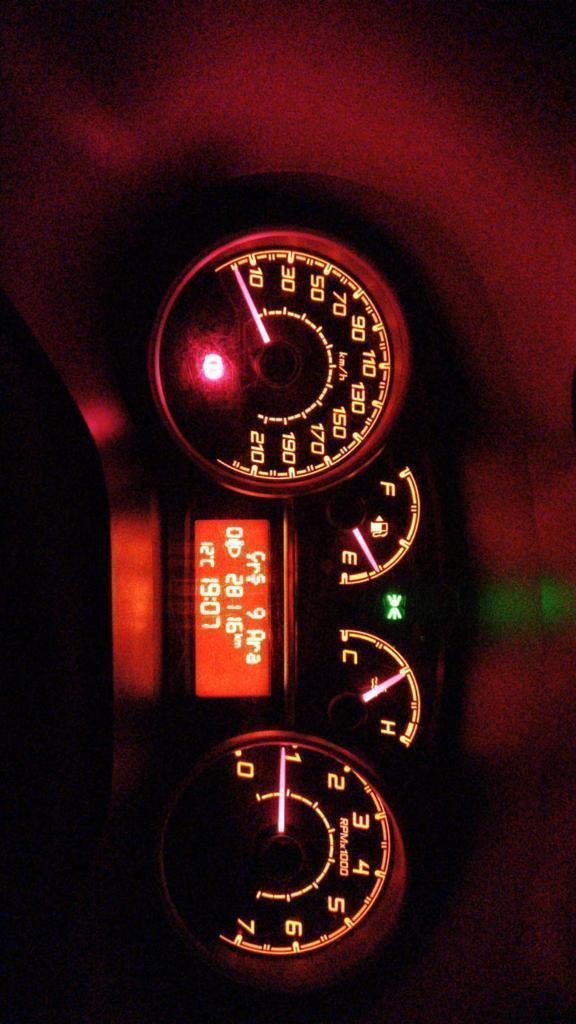0: (198, 601, 221, 615), (225, 526, 243, 538)
1: (224, 602, 243, 611), (199, 575, 220, 583), (225, 615, 243, 621), (198, 540, 214, 546)
2: (224, 573, 243, 585), (198, 545, 215, 555)
6: (224, 621, 243, 633)
7: (200, 615, 221, 630)
8: (224, 585, 244, 597)
9: (198, 583, 221, 596), (245, 606, 266, 620)
X: (244, 573, 266, 586), (244, 550, 266, 563), (245, 628, 265, 641), (244, 652, 261, 665), (245, 641, 261, 652), (245, 562, 261, 573), (198, 558, 215, 568), (233, 639, 242, 648), (202, 596, 218, 601), (233, 632, 243, 639)
odometer: (189, 514, 275, 702)
